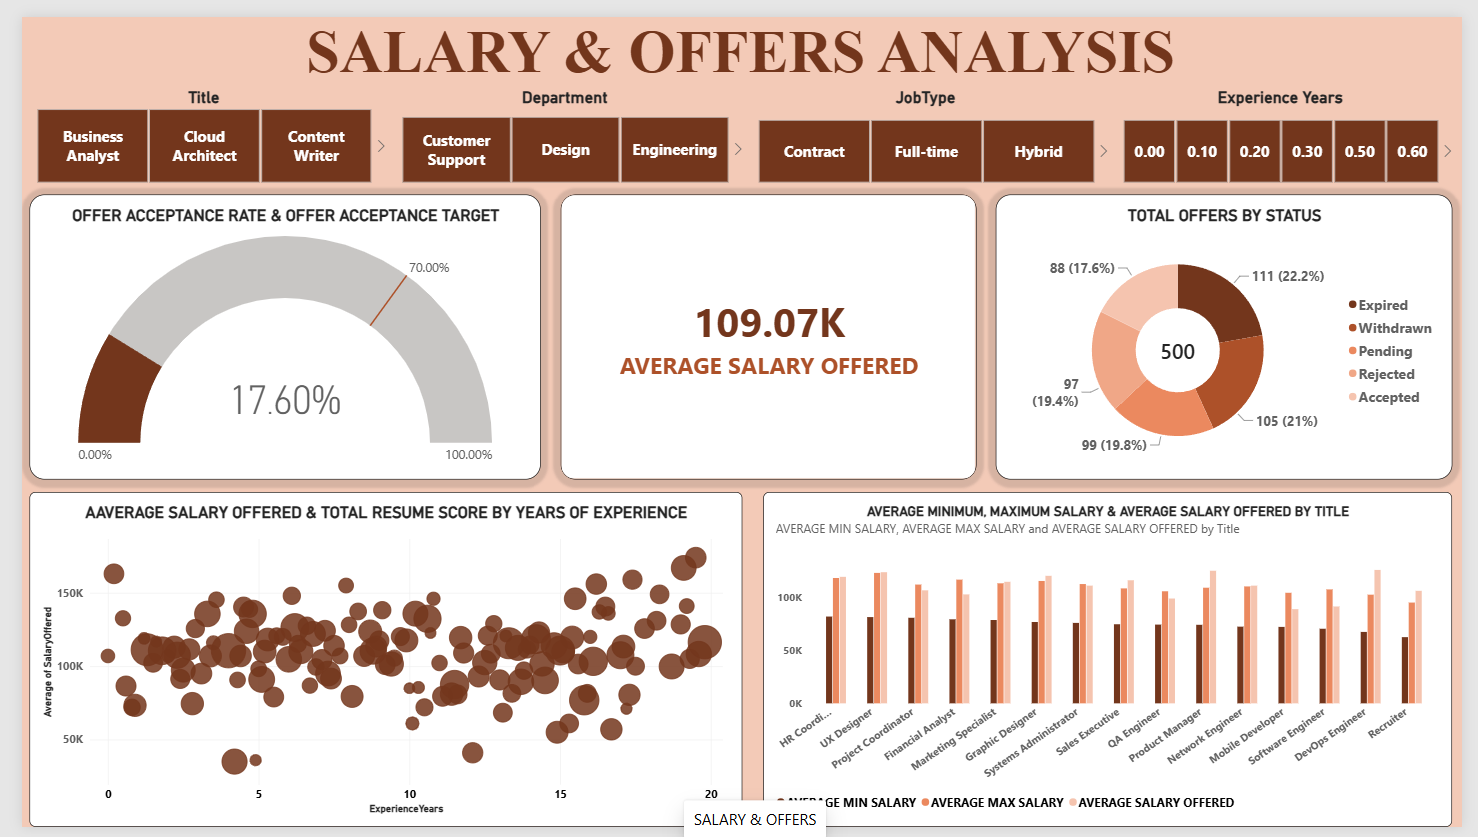

Layout of this report page (visuals, bound fields, positions):
{"tool":"powerbi","page":{"name":"SALARY & OFFERS","canvas":[1920,1080],"ordinal":3},"visuals":[{"type":"textbox","title":"SALARY & OFFERS ANALYSIS","box":[10,0,1896,94],"z":0},{"type":"clusteredColumnChart","title":"AVERAGE MINIMUM, MAXIMUM SALARY & AVERAGE SALARY OFFERED BY TITLE","fields":{"Category":["Jobs.Title"],"Y":["Applications.AVERAGE MIN SALARY","Applications.AVERAGE MAX SALARY","Applications.AVERAGE SALARY OFFERED"]},"box":[988,634,918,446],"z":1000},{"type":"gauge","title":"OFFER ACCEPTANCE RATE & OFFER ACCEPTANCE TARGET","fields":{"TargetValue":["Applications.OFFER ACCEPTANCE TARGET"],"Y":["Applications.OFFER ACCEPTANCE RATE %"]},"box":[10.5,237.2,682,380.2],"z":2000},{"type":"donutChart","title":"TOTAL OFFERS BY STATUS","fields":{"Category":["JobOffers.Status"],"Y":["Applications.TOTAL OFFERS"]},"box":[1297.7,237.2,608.7,380.2],"z":3000},{"type":"scatterChart","title":"AAVERAGE SALARY OFFERED & TOTAL RESUME SCORE BY YEARS OF EXPERIENCE","fields":{"Size":["Sum(Candidates.ResumeScore)"],"X":["Candidates.ExperienceYears"],"Y":["Avg(JobOffers.SalaryOffered)"]},"box":[10,634,950,446],"z":4000},{"type":"cardVisual","fields":{"Data":["Applications.AVERAGE SALARY OFFERED"]},"box":[718.6,237.2,554.7,380.2],"z":5000},{"type":"slicer","title":"Title","fields":{"Values":["Jobs.Title"]},"box":[0,94.2,484.9,127.3],"z":6000},{"type":"slicer","title":"Experience Years","fields":{"Values":["Candidates.ExperienceYears"]},"box":[1447.7,94.2,458.7,127.3],"z":7000},{"type":"slicer","title":"JobType","fields":{"Values":["Jobs.JobType"]},"box":[961,94.2,486.6,127.3],"z":8000},{"type":"slicer","title":"Department","fields":{"Values":["Jobs.Department"]},"box":[486.6,94.2,474.4,127.3],"z":9000}]}

Visuals, with their boxes in screenshot pixels (x1, y1, x2, y2), scaled from the page's 1920x1080 canvas onto the 1478x837 screenshot:
"SALARY & OFFERS ANALYSIS" textbox: locate(8, 0, 1467, 73)
"AVERAGE MINIMUM, MAXIMUM SALARY & AVERAGE SALARY OFFERED BY TITLE" clusteredColumnChart: locate(761, 491, 1467, 836)
"OFFER ACCEPTANCE RATE & OFFER ACCEPTANCE TARGET" gauge: locate(8, 184, 533, 478)
"TOTAL OFFERS BY STATUS" donutChart: locate(999, 184, 1468, 478)
"AAVERAGE SALARY OFFERED & TOTAL RESUME SCORE BY YEARS OF EXPERIENCE" scatterChart: locate(8, 491, 739, 836)
cardVisual - Applications.AVERAGE SALARY OFFERED: locate(553, 184, 980, 478)
"Title" slicer: locate(0, 73, 373, 172)
"Experience Years" slicer: locate(1114, 73, 1468, 172)
"JobType" slicer: locate(740, 73, 1114, 172)
"Department" slicer: locate(375, 73, 740, 172)
